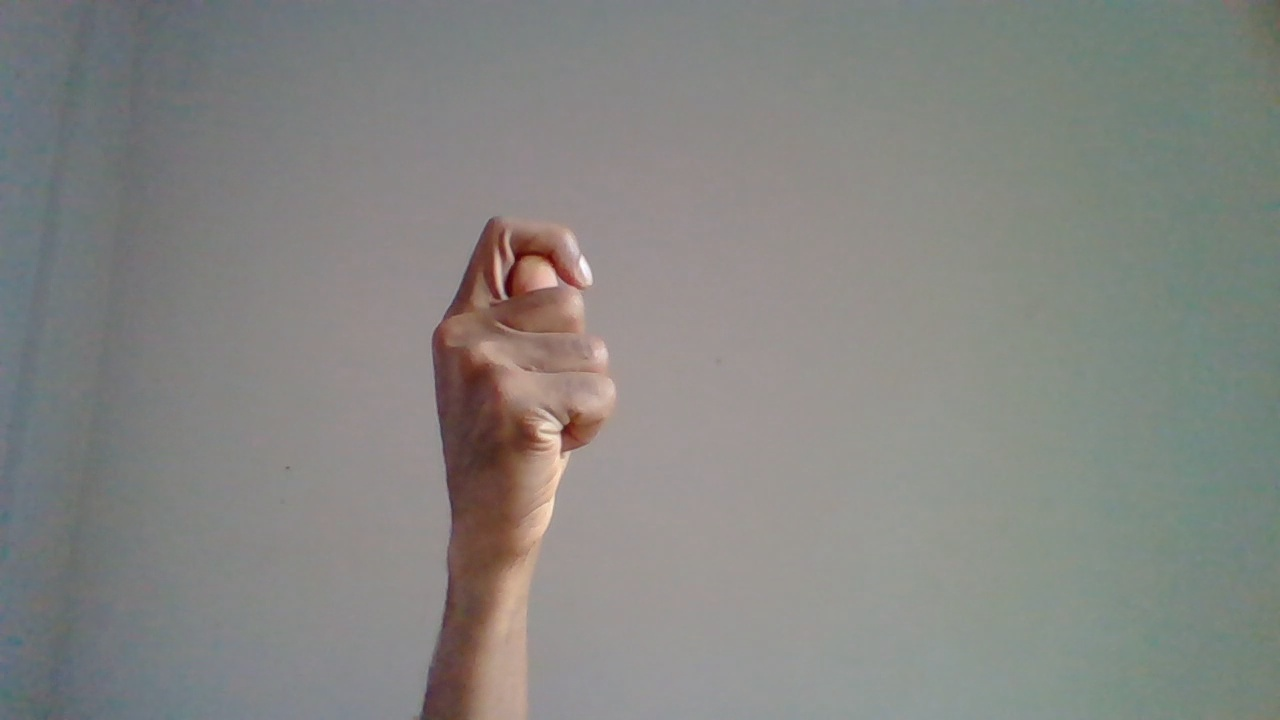che: (428, 214, 627, 693)
